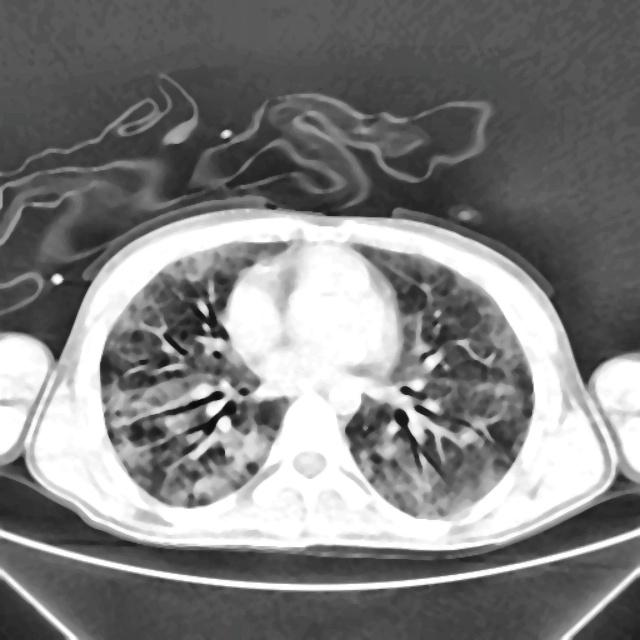covid: (15, 203, 623, 559)
